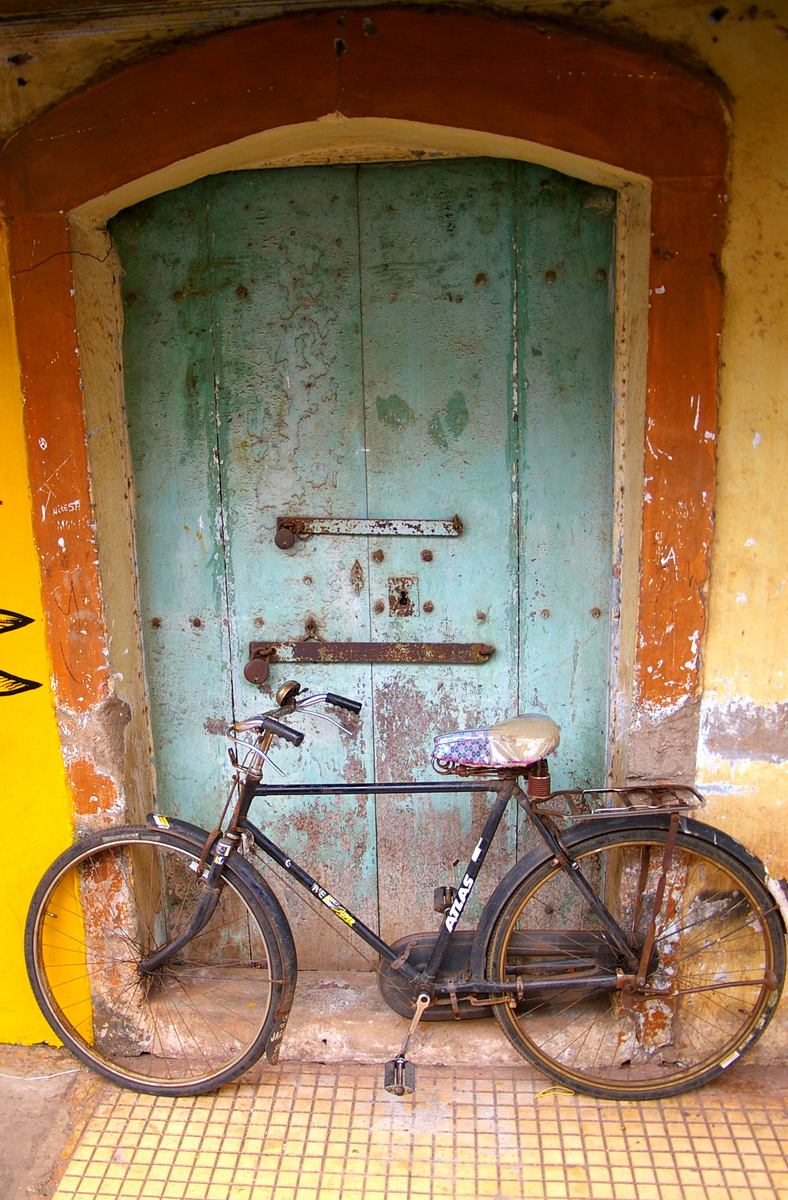Bicycle: (1, 304, 787, 1192)
